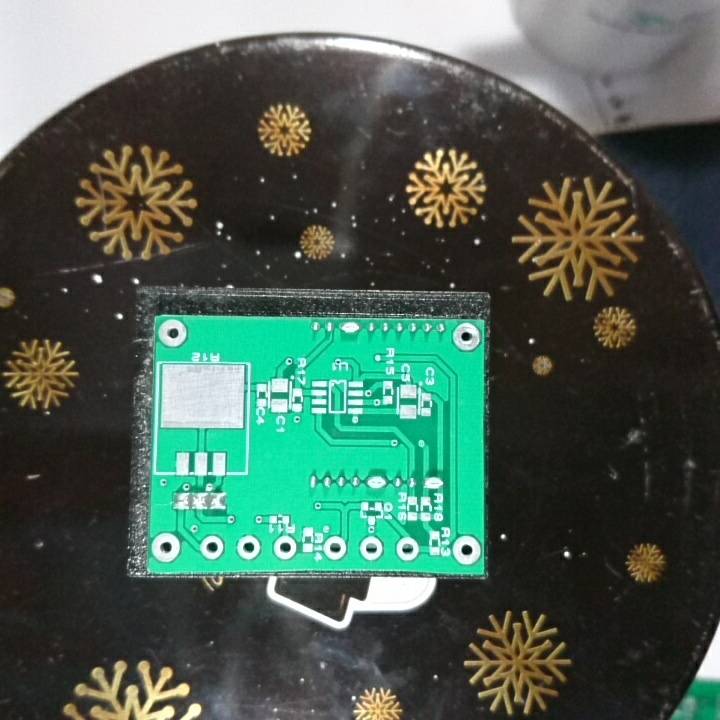F: (150, 531, 184, 566), (450, 532, 483, 568), (157, 318, 190, 349), (451, 320, 482, 353), (234, 533, 264, 563), (197, 532, 225, 563), (272, 532, 299, 563), (394, 535, 422, 564), (357, 534, 385, 562), (322, 533, 348, 563)
P: (364, 472, 389, 492), (420, 472, 445, 492), (338, 320, 363, 339)
